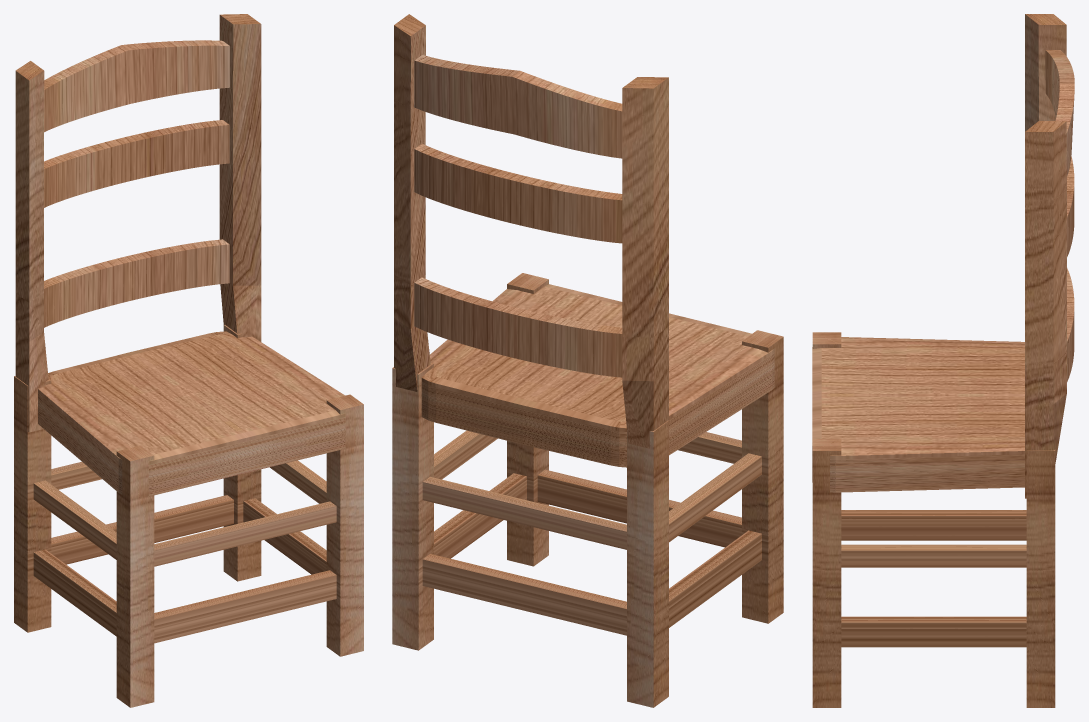
Rendered from Silla_Atras.obj.
3 renders of one model, left to right at view 1: azimuth 30°, elevation 25°; view 2: azimuth 150°, elevation 25°; view 3: azimuth 270°, elevation 25°, orthographic. The views are drawn at different scales.
Parts seen in each view (by area): view 1: patas_Cube.007, respaldo_Cube.008, asiento_Cube.002; view 2: patas_Cube.007, respaldo_Cube.008, asiento_Cube.002; view 3: patas_Cube.007, asiento_Cube.002, respaldo_Cube.008.
Part boxes in pixels (x1,y1,x2,y2): patas_Cube.007: (14, 325, 363, 707); respaldo_Cube.008: (15, 14, 261, 432); asiento_Cube.002: (38, 331, 345, 496); patas_Cube.007: (392, 273, 783, 707); respaldo_Cube.008: (394, 14, 668, 448); asiento_Cube.002: (421, 284, 774, 467); patas_Cube.007: (812, 332, 1055, 707); asiento_Cube.002: (812, 337, 1024, 492); respaldo_Cube.008: (1025, 14, 1074, 498).
Size of the model in its own units: 1.98 by 4.45 by 1.84.
Materials: 1 (1 with a texture image).
